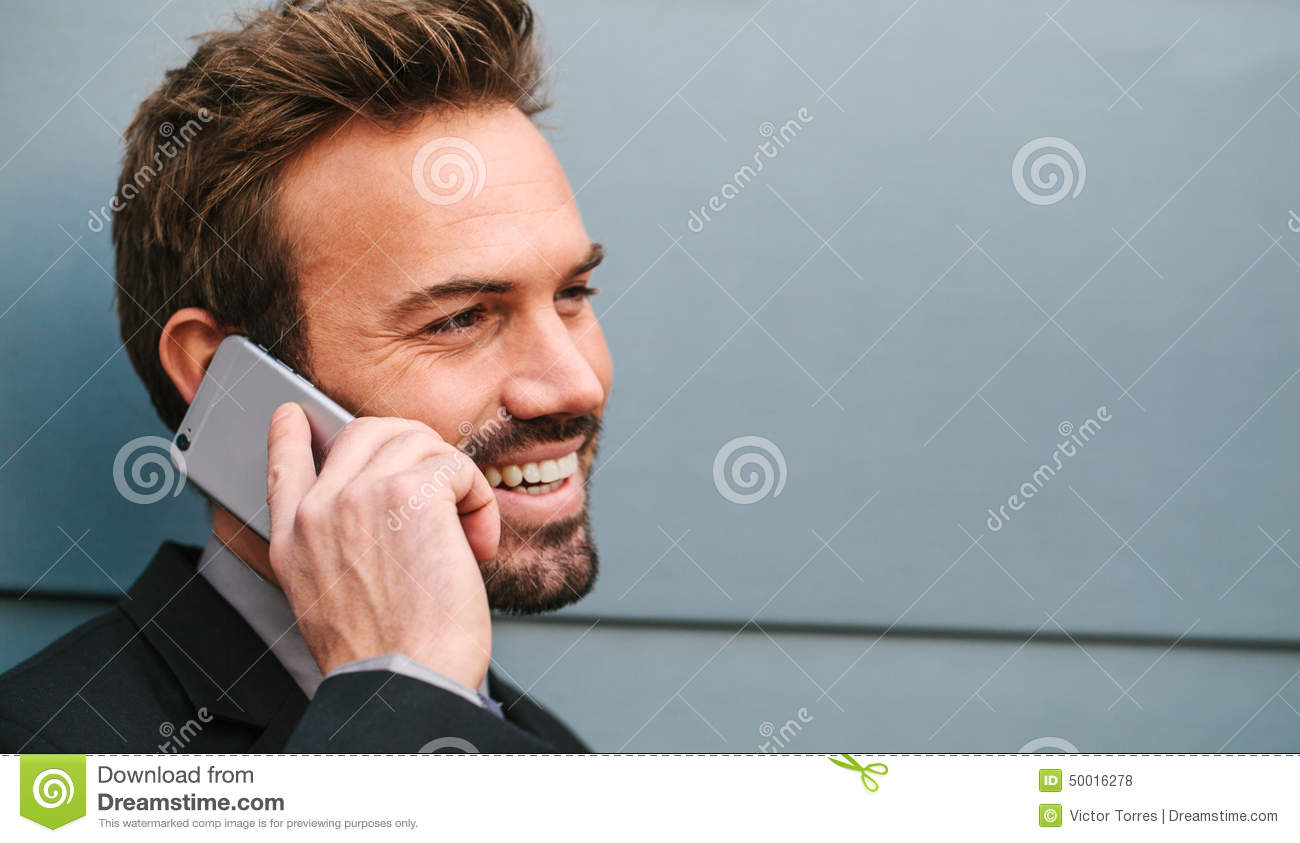phone: (170, 334, 368, 548)
talk: (169, 226, 618, 708)
